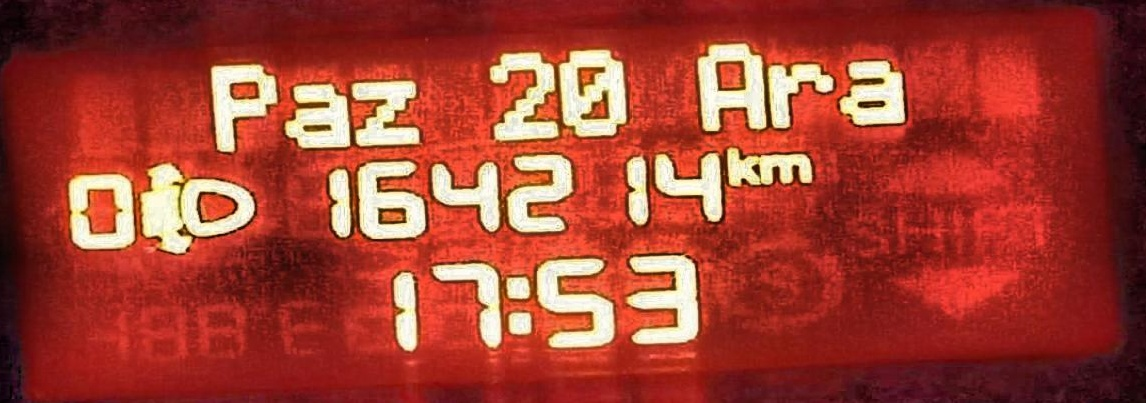0: (561, 44, 633, 135), (60, 166, 137, 251)
1: (381, 258, 418, 359), (616, 150, 645, 236), (324, 163, 351, 250)
2: (484, 49, 563, 147), (506, 150, 572, 238)
3: (626, 250, 712, 359)
4: (426, 156, 504, 238), (649, 148, 724, 231)
5: (534, 252, 620, 355)
6: (357, 156, 432, 246)
7: (430, 258, 503, 355)
X: (199, 51, 285, 153), (690, 30, 770, 130), (351, 74, 430, 144), (838, 54, 908, 133), (283, 80, 357, 150), (762, 59, 834, 130), (502, 268, 537, 343), (760, 150, 813, 185), (721, 144, 761, 189)
